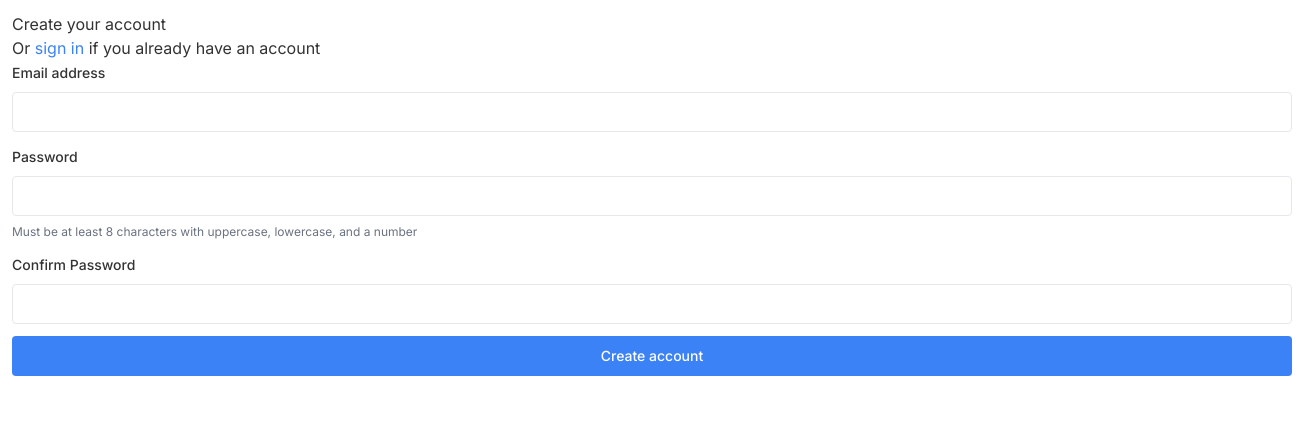
Scenario: Sign-Up Error Handling › Server-Side Registration Errors › should display error for validation errors (422)
Type "test@example.com" into the field labelled "Email address" at (652, 112), box top-left (12, 92), bottom-right (1292, 132)
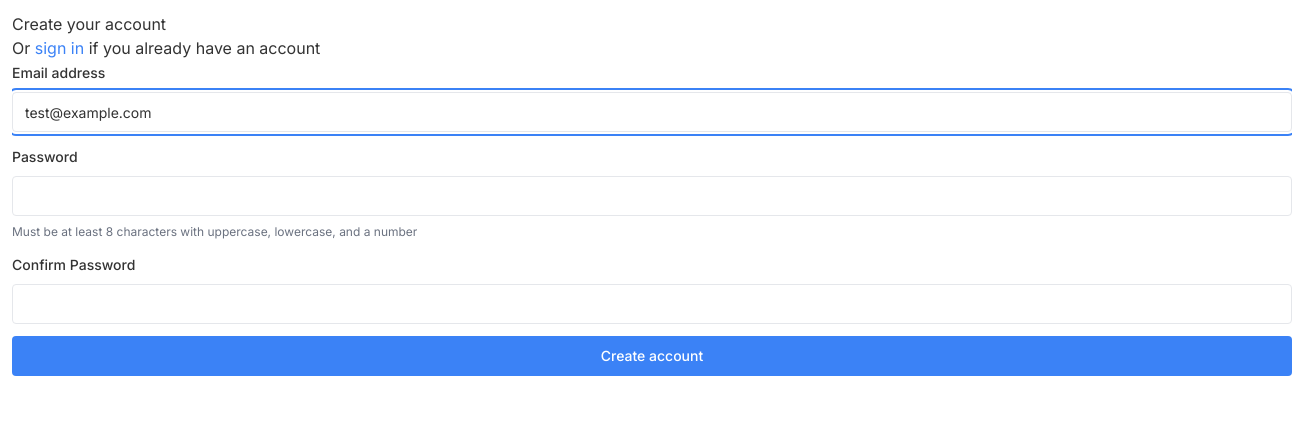
Type "password123" into the password field labelled "Password" at (652, 196), box top-left (12, 176), bottom-right (1292, 216)
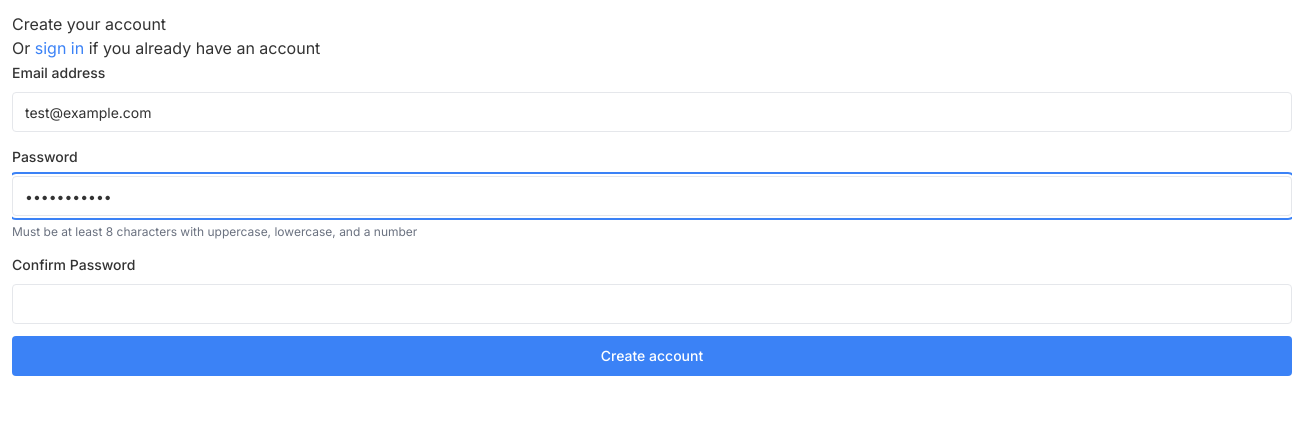
Type "password123" into the password field labelled "Confirm Password" at (652, 304), box top-left (12, 284), bottom-right (1292, 324)
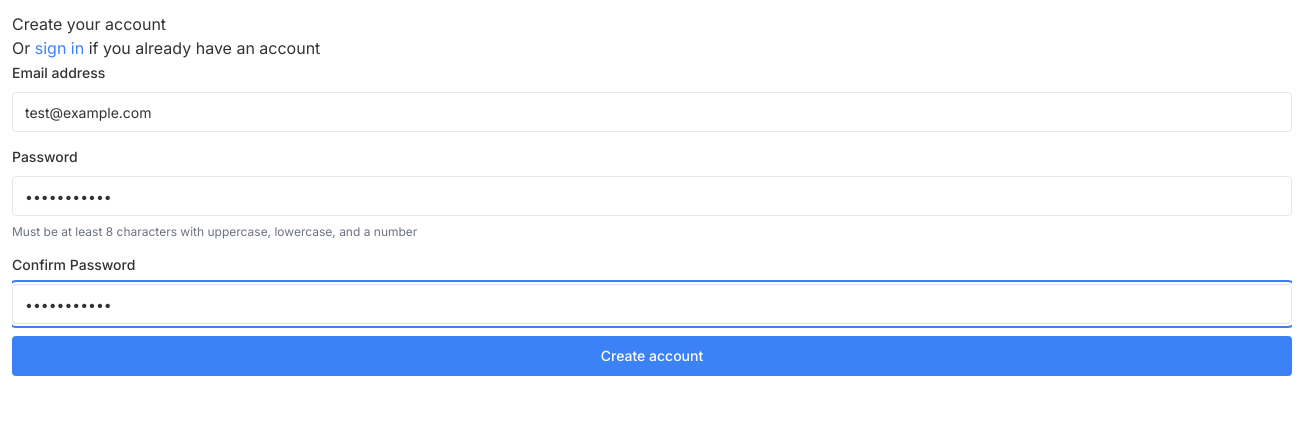
Click the button "Create account" at (652, 356), box top-left (12, 336), bottom-right (1292, 376)
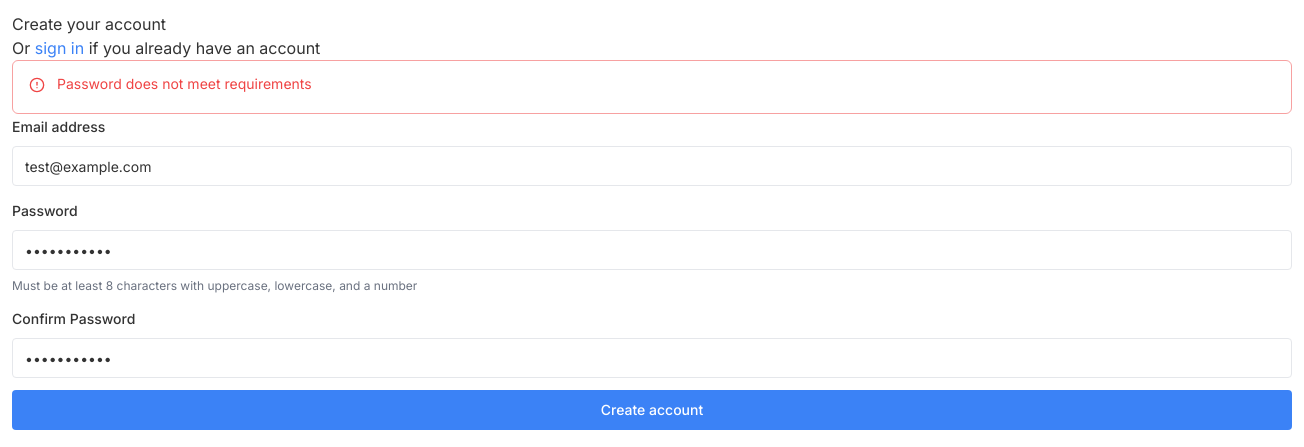
Check: the message "Password does not meet requirements" is shown, box top-left (12, 60), bottom-right (1292, 114)
Check: the text "Password does not meet requirements" is shown, box top-left (57, 75), bottom-right (312, 92)
